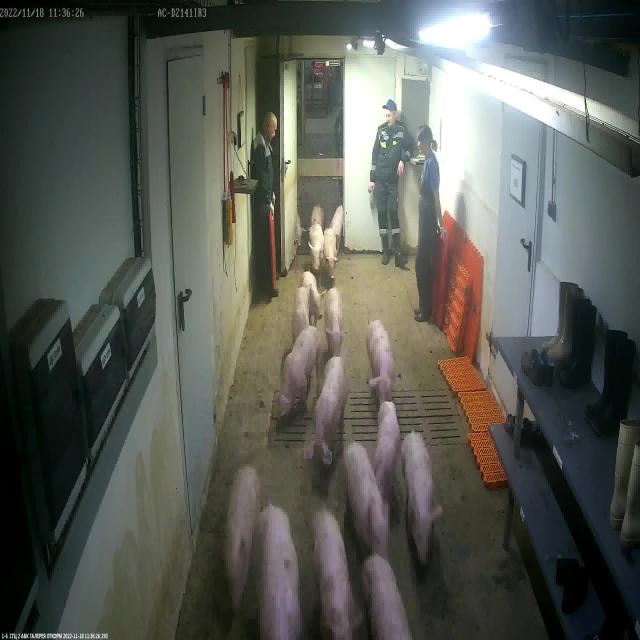pig: (314, 508, 364, 640), (225, 468, 266, 628), (401, 433, 441, 571), (260, 507, 300, 640), (344, 444, 390, 558), (304, 357, 348, 469), (274, 327, 325, 421), (362, 556, 415, 640), (376, 400, 401, 508), (368, 321, 394, 404), (328, 288, 344, 359), (302, 272, 322, 325), (324, 228, 336, 282), (308, 225, 323, 265), (295, 288, 308, 334), (330, 203, 343, 246), (310, 207, 325, 225)
